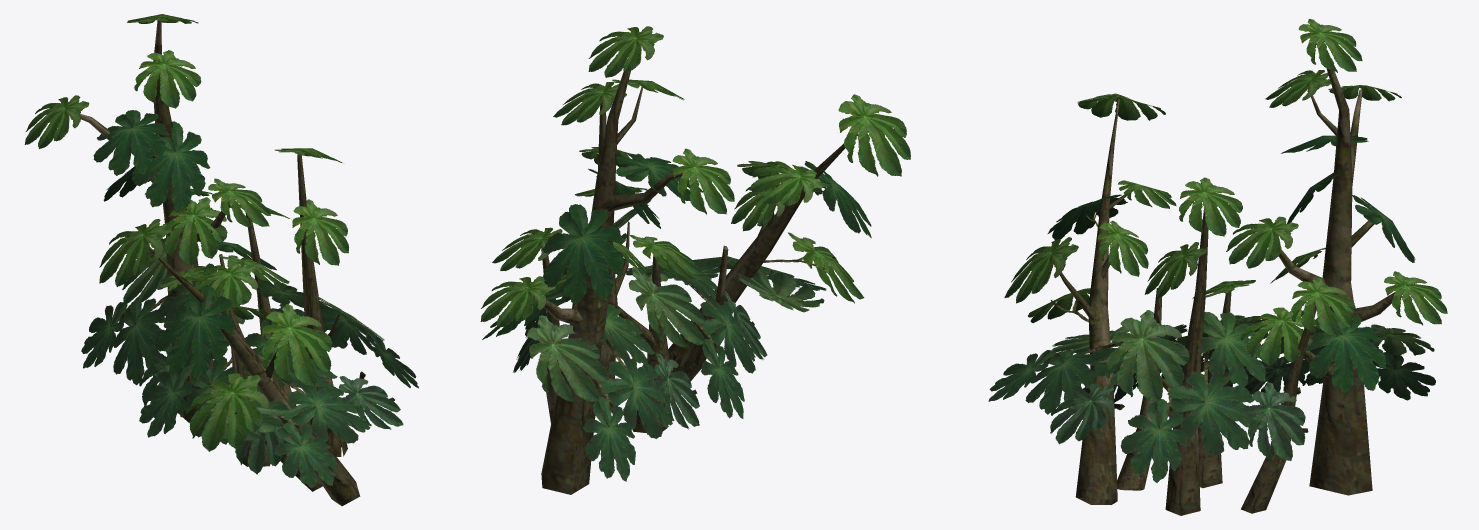
The model's file is guanmu_07.FBX.
3 renders of one model, left to right at view 1: azimuth 30°, elevation 25°; view 2: azimuth 150°, elevation 25°; view 3: azimuth 270°, elevation 25°, orthographic. The views are drawn at different scales.
Parts seen in each view (by area): view 1: guanmu_07_01, guanmu_07_03; view 2: guanmu_07_01, guanmu_07_03; view 3: guanmu_07_01, guanmu_07_03.
Boxes of the visible parts, bbox=[...] form: guanmu_07_01: bbox=[24, 14, 360, 506]; guanmu_07_03: bbox=[81, 238, 418, 488]; guanmu_07_01: bbox=[480, 26, 910, 494]; guanmu_07_03: bbox=[513, 199, 826, 481]; guanmu_07_01: bbox=[1004, 19, 1447, 515]; guanmu_07_03: bbox=[988, 310, 1435, 482].
Bounding box in the file's own units: 3.57 × 4.26 × 4.41.
